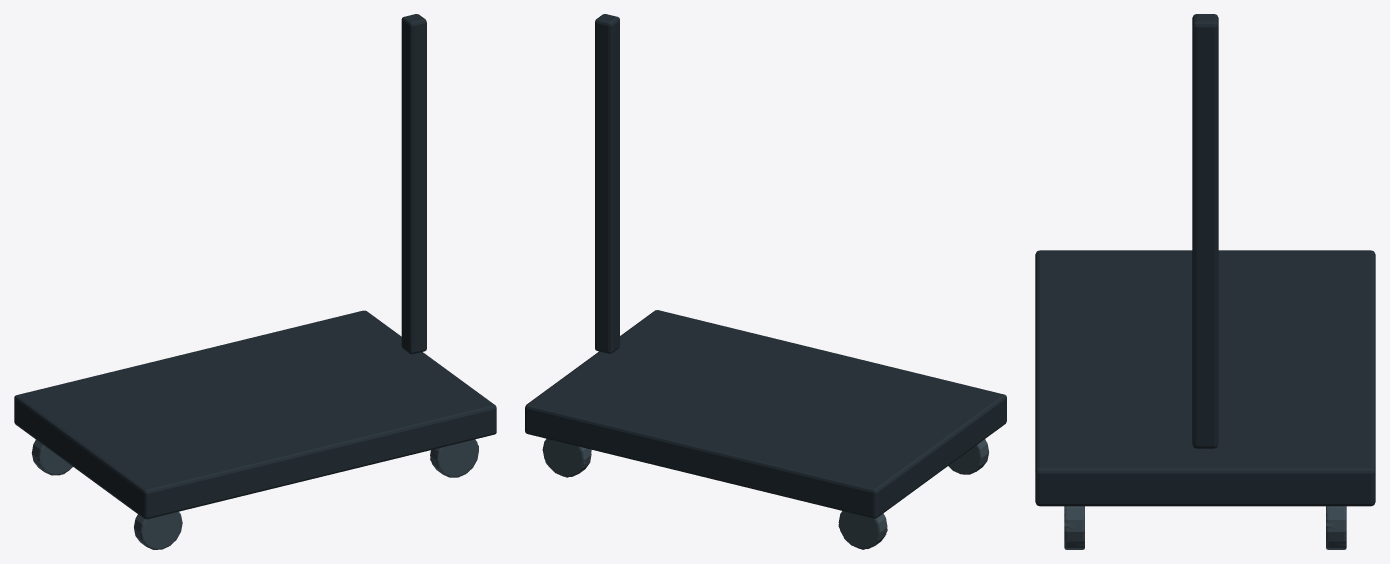
File: CC_S16_P2_Expansion_Logistics_RollingCart_LOD0.fbx
3 views of the same model, side by side, from view 1: azimuth 30°, elevation 25°; view 2: azimuth 150°, elevation 25°; view 3: azimuth 270°, elevation 25° (orthographic). The views are drawn at different scales.
Visible parts, largest first — view 1: CC_S16_P2_Expansion_Logistics_RollingCart_LOD0_Platform, CC_S16_P2_Expansion_Logistics_RollingCart_LOD0_Handle, CC_S16_P2_Expansion_Logistics_RollingCart_LOD0_Wheel, CC_S16_P2_Expansion_Logistics_RollingCart_LOD0_Wheel.002, CC_S16_P2_Expansion_Logistics_RollingCart_LOD0_Wheel.001; view 2: CC_S16_P2_Expansion_Logistics_RollingCart_LOD0_Platform, CC_S16_P2_Expansion_Logistics_RollingCart_LOD0_Handle, CC_S16_P2_Expansion_Logistics_RollingCart_LOD0_Wheel.001, CC_S16_P2_Expansion_Logistics_RollingCart_LOD0_Wheel.003, CC_S16_P2_Expansion_Logistics_RollingCart_LOD0_Wheel; view 3: CC_S16_P2_Expansion_Logistics_RollingCart_LOD0_Platform, CC_S16_P2_Expansion_Logistics_RollingCart_LOD0_Handle, CC_S16_P2_Expansion_Logistics_RollingCart_LOD0_Wheel.002, CC_S16_P2_Expansion_Logistics_RollingCart_LOD0_Wheel.003.
Part boxes in pixels (bbox=[...]): CC_S16_P2_Expansion_Logistics_RollingCart_LOD0_Platform: bbox=[14, 310, 496, 519]; CC_S16_P2_Expansion_Logistics_RollingCart_LOD0_Handle: bbox=[401, 14, 426, 354]; CC_S16_P2_Expansion_Logistics_RollingCart_LOD0_Wheel: bbox=[134, 511, 182, 549]; CC_S16_P2_Expansion_Logistics_RollingCart_LOD0_Wheel.002: bbox=[430, 439, 478, 477]; CC_S16_P2_Expansion_Logistics_RollingCart_LOD0_Wheel.001: bbox=[32, 440, 72, 475]; CC_S16_P2_Expansion_Logistics_RollingCart_LOD0_Platform: bbox=[525, 310, 1006, 518]; CC_S16_P2_Expansion_Logistics_RollingCart_LOD0_Handle: bbox=[595, 14, 619, 353]; CC_S16_P2_Expansion_Logistics_RollingCart_LOD0_Wheel.001: bbox=[839, 511, 887, 548]; CC_S16_P2_Expansion_Logistics_RollingCart_LOD0_Wheel.003: bbox=[543, 439, 591, 476]; CC_S16_P2_Expansion_Logistics_RollingCart_LOD0_Wheel: bbox=[948, 439, 989, 474]; CC_S16_P2_Expansion_Logistics_RollingCart_LOD0_Platform: bbox=[1035, 250, 1375, 506]; CC_S16_P2_Expansion_Logistics_RollingCart_LOD0_Handle: bbox=[1192, 14, 1218, 448]; CC_S16_P2_Expansion_Logistics_RollingCart_LOD0_Wheel.002: bbox=[1064, 506, 1084, 549]; CC_S16_P2_Expansion_Logistics_RollingCart_LOD0_Wheel.003: bbox=[1326, 506, 1346, 549].
Size of what is drawn, in the model's own units: 1 by 1.13 by 0.65.
